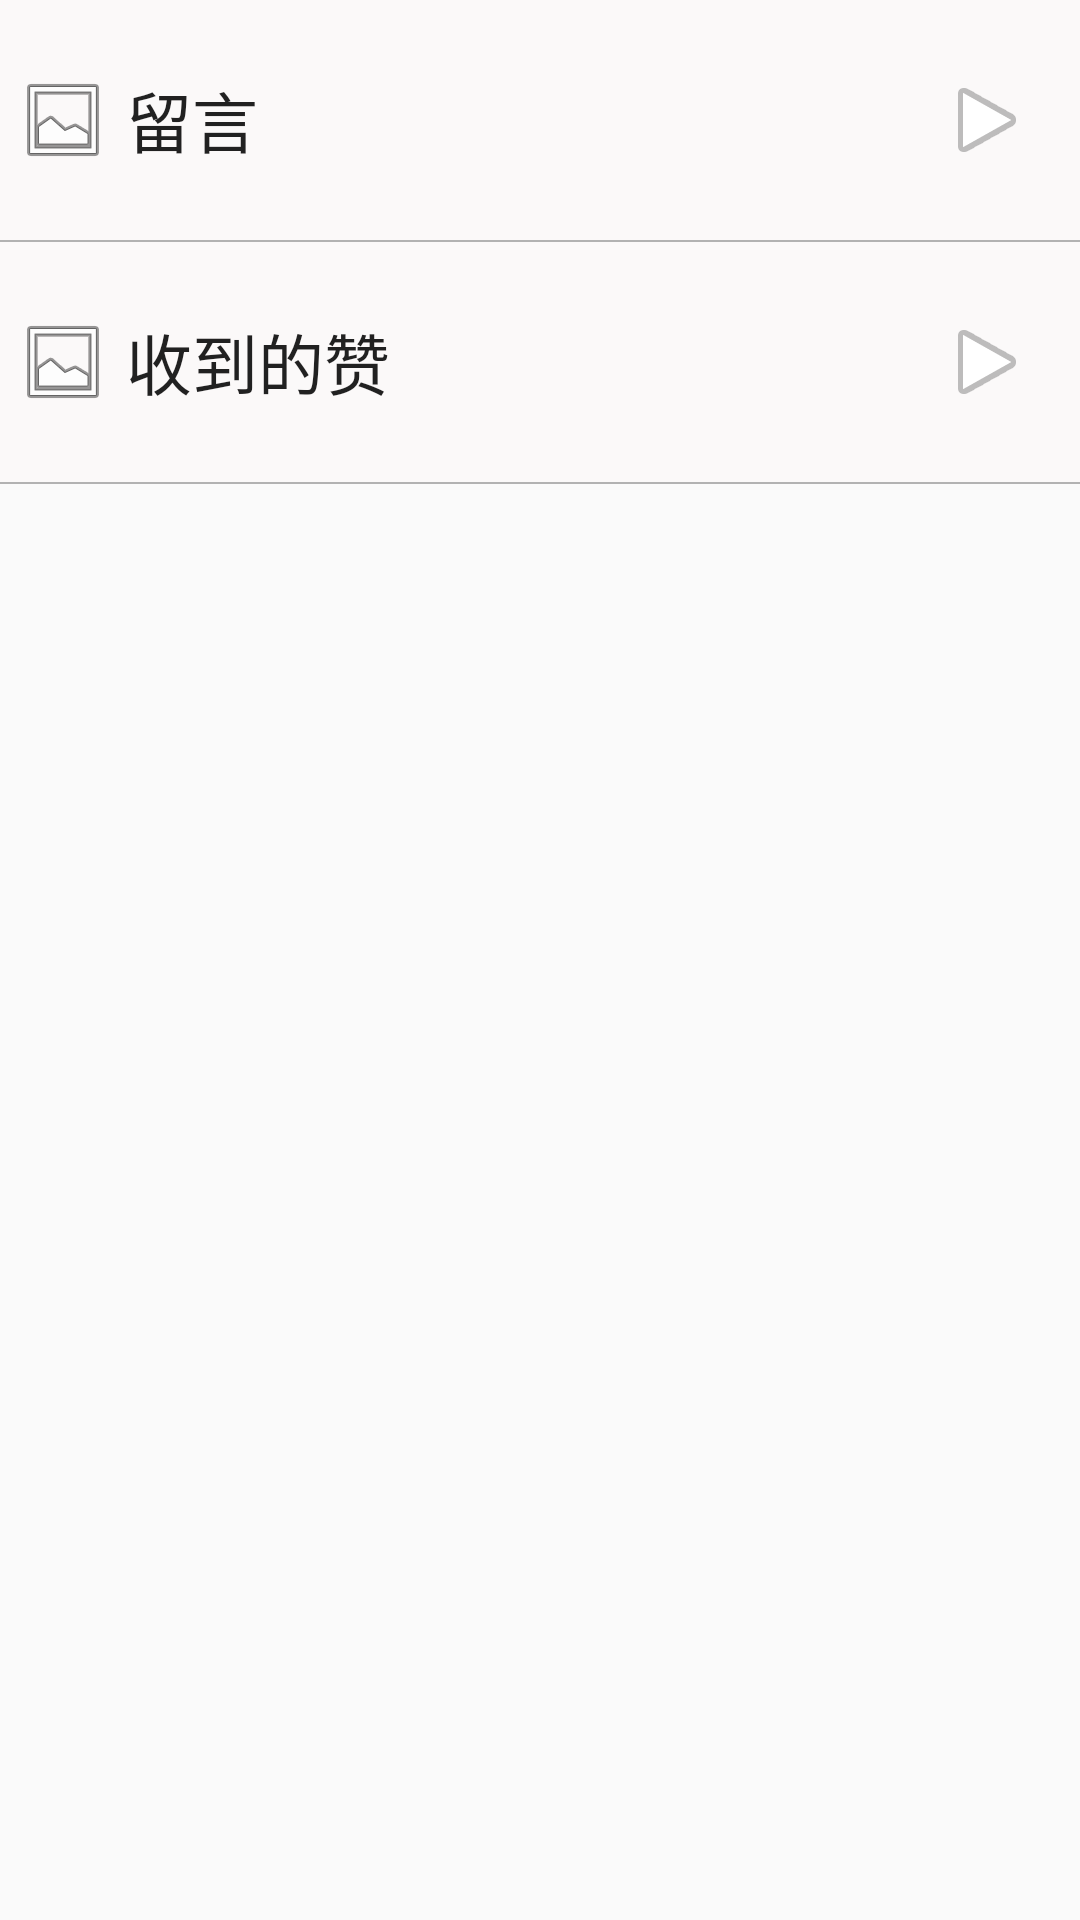

Point at icon controls on the screen. Image size 1080x1920, points as (x=x, y=y).
gallery: (x=63, y=120), (x=63, y=362)
play: (x=987, y=120), (x=987, y=362)
